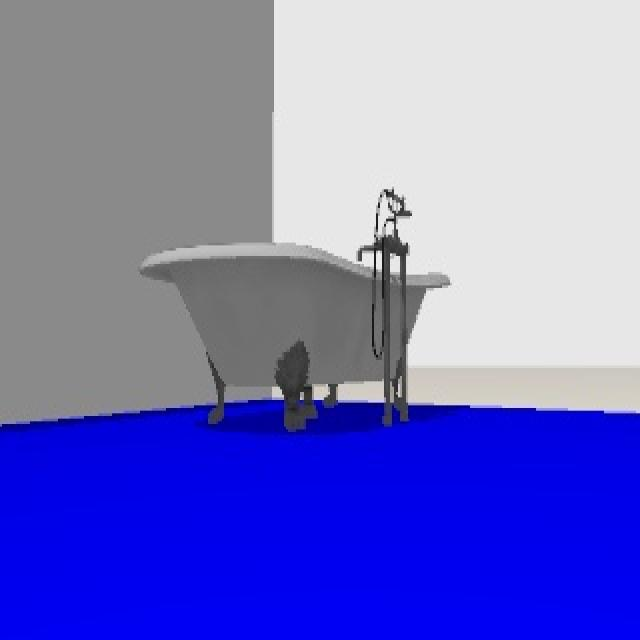bathtub: (146, 182, 453, 436)
